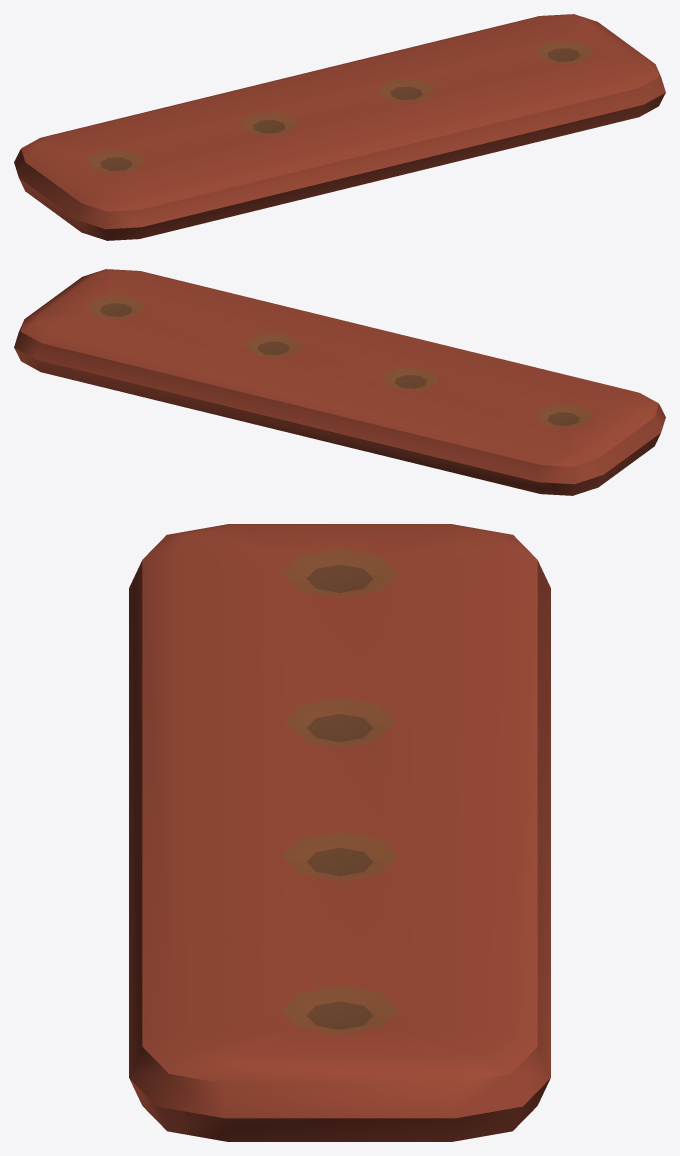
File: biscoito_natal_palito_pacote.glb
3 renders of one model, top to bottom at view 1: azimuth 30°, elevation 25°; view 2: azimuth 150°, elevation 25°; view 3: azimuth 270°, elevation 25°, orthographic. The views are drawn at different scales.
Parts seen in each view (by area): view 1: biscoito_natal_palito_pacote; view 2: biscoito_natal_palito_pacote; view 3: biscoito_natal_palito_pacote.
Part boxes in pixels (x1=…): biscoito_natal_palito_pacote: x1=14, y1=14, x2=665, y2=240; biscoito_natal_palito_pacote: x1=14, y1=269, x2=665, y2=495; biscoito_natal_palito_pacote: x1=129, y1=524, x2=550, y2=1141.
Bounding box in the file's own units: 0.1198 × 0.00806 × 0.0374.
Materials: 1 (1 with a texture image).
